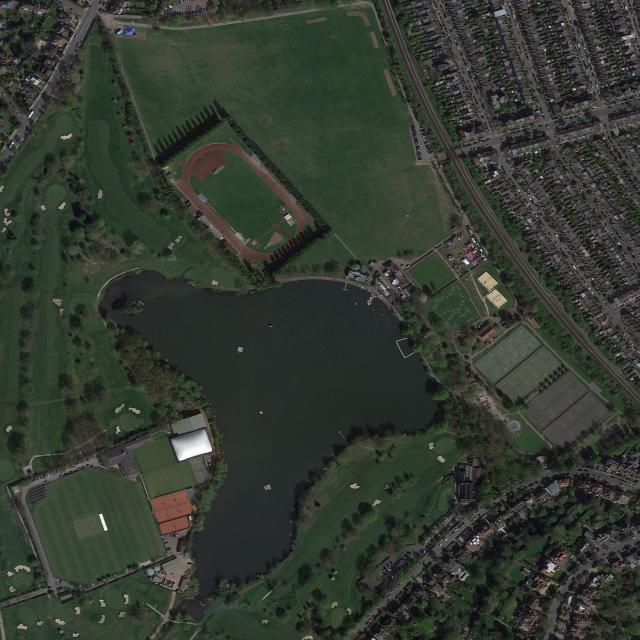large-vehicle: (28, 110, 35, 119), (8, 141, 15, 149), (470, 237, 476, 244), (468, 229, 474, 235), (546, 125, 550, 129)
ship: (137, 300, 145, 306), (269, 325, 273, 328), (386, 286, 390, 289), (380, 294, 384, 297), (369, 302, 372, 305), (361, 285, 363, 289), (355, 302, 357, 305), (383, 293, 386, 295), (383, 290, 385, 293), (369, 297, 372, 299), (367, 303, 370, 305), (367, 289, 369, 292), (362, 286, 364, 289), (374, 323, 377, 325), (367, 300, 369, 302)
small-vehicle: (571, 265, 577, 271), (167, 4, 173, 9), (618, 235, 623, 240), (451, 227, 457, 231), (390, 565, 396, 569), (450, 521, 455, 525), (447, 524, 452, 528), (443, 527, 448, 531), (438, 531, 443, 535), (454, 528, 459, 532), (428, 543, 433, 547), (398, 558, 403, 562), (457, 524, 462, 528), (435, 523, 440, 527), (444, 27, 448, 32), (511, 13, 515, 18), (474, 86, 478, 91), (591, 284, 595, 289), (39, 82, 44, 86), (70, 8, 75, 12), (417, 553, 421, 558), (172, 533, 176, 538), (627, 166, 631, 171), (495, 495, 500, 499), (388, 576, 392, 581), (399, 290, 404, 294), (518, 182, 522, 187), (514, 177, 518, 182), (578, 267, 583, 271), (621, 239, 625, 244), (617, 241, 621, 246), (594, 288, 599, 292), (632, 262, 636, 267), (631, 255, 636, 259), (524, 198, 528, 203), (478, 322, 483, 326), (487, 507, 492, 511), (517, 482, 522, 486), (556, 565, 561, 569), (589, 557, 594, 561), (575, 568, 580, 572), (569, 574, 573, 579), (563, 613, 567, 618), (396, 560, 402, 563), (531, 127, 537, 130), (472, 235, 476, 239), (401, 264, 405, 268), (451, 519, 455, 523), (446, 526, 450, 530), (423, 534, 427, 538), (425, 533, 429, 537), (431, 526, 435, 530), (444, 537, 448, 541), (389, 561, 393, 565), (451, 531, 455, 535), (433, 525, 437, 529), (461, 522, 465, 526), (437, 521, 441, 525), (439, 520, 443, 524), (440, 518, 444, 522), (443, 518, 447, 522), (503, 2, 507, 6), (441, 9, 445, 13), (467, 71, 471, 75), (466, 80, 470, 84), (35, 89, 39, 93), (36, 84, 40, 88), (76, 43, 80, 47), (59, 1, 63, 5), (2, 92, 6, 96), (400, 580, 404, 584), (396, 583, 400, 587), (393, 587, 397, 591), (390, 590, 394, 594), (378, 602, 382, 606), (409, 571, 413, 575), (402, 565, 406, 569), (383, 582, 387, 586), (59, 580, 63, 584), (577, 178, 581, 182), (607, 136, 611, 140), (565, 161, 569, 165), (620, 156, 624, 160), (618, 153, 622, 157), (618, 144, 622, 148), (613, 146, 617, 150), (609, 140, 613, 144), (589, 81, 593, 85), (585, 68, 589, 72), (624, 6, 628, 10), (572, 171, 576, 175), (580, 182, 584, 186), (492, 497, 496, 501), (579, 188, 583, 192), (512, 174, 516, 178), (629, 252, 633, 256), (99, 1, 103, 5), (602, 299, 606, 303), (614, 237, 618, 241), (567, 251, 571, 255), (609, 230, 613, 234), (604, 223, 608, 227), (594, 208, 598, 212), (624, 251, 628, 255), (590, 290, 594, 294), (587, 287, 591, 291), (587, 278, 591, 282), (576, 271, 580, 275), (629, 258, 633, 262), (577, 44, 581, 48), (501, 167, 505, 171), (548, 224, 552, 228), (537, 217, 541, 221), (534, 205, 538, 209), (517, 189, 521, 193), (542, 115, 546, 119), (479, 99, 483, 103), (487, 130, 491, 134), (485, 125, 489, 129), (555, 234, 559, 238), (560, 241, 564, 245), (633, 346, 637, 350), (631, 343, 635, 347), (628, 340, 632, 344), (632, 306, 636, 310), (617, 325, 621, 329), (480, 507, 484, 511), (514, 484, 518, 488), (561, 628, 565, 632), (570, 555, 574, 559), (566, 578, 570, 582), (448, 523, 453, 526), (406, 265, 411, 268), (414, 142, 419, 145), (405, 553, 410, 556), (400, 557, 405, 560), (395, 561, 400, 564), (387, 568, 392, 571), (386, 563, 389, 568), (474, 511, 479, 514), (411, 125, 416, 128), (520, 51, 523, 56), (473, 142, 478, 145), (428, 151, 433, 154), (421, 133, 426, 136), (383, 566, 386, 571), (385, 570, 390, 573), (75, 34, 78, 39), (77, 468, 82, 471), (376, 578, 381, 581), (375, 588, 378, 593), (166, 548, 171, 551), (164, 542, 169, 545), (44, 572, 49, 575), (178, 0, 181, 5), (623, 108, 628, 111), (595, 83, 598, 88), (519, 136, 524, 139), (572, 121, 577, 124), (558, 125, 563, 128), (540, 95, 543, 100), (503, 134, 508, 137), (522, 129, 527, 132), (538, 131, 543, 134), (597, 476, 602, 479), (619, 483, 624, 486), (626, 305, 631, 308), (540, 482, 545, 485), (545, 583, 548, 588), (586, 577, 591, 580), (635, 300, 639, 303), (455, 517, 459, 520), (442, 529, 446, 532), (437, 533, 441, 536), (411, 127, 415, 130), (413, 136, 417, 139), (414, 138, 418, 141), (416, 145, 420, 148), (431, 528, 434, 532), (448, 534, 451, 538), (439, 543, 443, 546), (402, 556, 406, 559), (394, 563, 398, 566), (445, 517, 449, 520), (446, 515, 450, 518), (448, 513, 452, 516), (449, 511, 453, 514), (456, 514, 460, 517), (471, 514, 475, 517), (478, 514, 482, 517), (474, 517, 478, 520), (470, 520, 474, 523), (420, 127, 424, 130), (382, 568, 385, 572), (433, 1, 436, 5), (435, 5, 438, 9), (436, 9, 439, 13), (440, 5, 443, 9), (444, 14, 447, 18), (420, 129, 424, 132), (450, 29, 453, 33), (448, 36, 451, 40), (508, 2, 511, 6), (509, 6, 512, 10), (526, 56, 529, 60), (518, 46, 521, 50), (516, 40, 519, 44), (512, 29, 515, 33), (511, 25, 514, 29), (515, 24, 518, 28), (507, 13, 510, 17), (451, 43, 454, 47), (454, 38, 457, 42), (455, 42, 458, 46), (478, 107, 481, 111), (428, 149, 432, 152), (427, 148, 431, 151), (426, 146, 430, 149), (425, 144, 429, 147), (424, 140, 428, 143), (423, 139, 427, 142), (422, 137, 426, 140), (422, 135, 426, 138), (473, 148, 477, 151), (475, 101, 478, 105), (457, 45, 460, 49), (432, 64, 435, 68), (460, 53, 463, 57), (458, 60, 461, 64), (466, 67, 469, 71), (463, 72, 466, 76), (468, 85, 471, 89), (470, 88, 473, 92), (57, 50, 60, 54), (47, 473, 50, 477), (166, 6, 170, 9), (9, 102, 13, 105), (43, 481, 47, 484), (64, 473, 68, 476), (69, 471, 73, 474), (6, 144, 9, 148), (18, 112, 21, 116), (15, 109, 18, 113), (45, 474, 48, 478), (399, 568, 402, 572), (376, 605, 379, 609), (373, 608, 376, 612), (419, 562, 422, 566), (361, 582, 364, 586), (404, 564, 407, 568), (408, 562, 411, 566), (421, 550, 424, 554), (391, 575, 394, 579), (385, 580, 388, 584), (382, 583, 385, 587), (380, 584, 383, 588), (383, 573, 387, 576), (379, 572, 382, 576), (170, 534, 173, 538), (175, 532, 178, 536), (82, 458, 85, 462), (80, 459, 83, 463), (73, 463, 76, 467), (65, 465, 68, 469), (47, 586, 51, 589), (184, 12, 187, 16), (206, 7, 209, 11), (201, 9, 204, 13), (199, 10, 202, 14), (192, 11, 195, 15), (186, 12, 189, 16), (523, 61, 526, 65), (530, 68, 533, 72), (604, 124, 607, 128), (565, 118, 569, 121), (592, 116, 596, 119), (618, 109, 622, 112), (620, 103, 624, 106), (609, 126, 612, 130), (606, 132, 609, 136), (575, 175, 578, 179), (570, 168, 573, 172), (568, 171, 571, 175), (630, 170, 633, 174), (625, 155, 628, 159), (550, 142, 553, 146), (601, 85, 604, 89), (588, 76, 591, 80), (587, 66, 590, 70), (585, 55, 589, 58), (579, 49, 582, 53), (635, 38, 638, 42), (636, 27, 639, 31), (633, 18, 636, 22), (628, 19, 631, 23), (626, 10, 629, 14), (631, 13, 634, 17), (623, 2, 626, 6), (510, 486, 514, 489), (539, 564, 542, 568), (369, 268, 373, 271), (171, 2, 174, 6), (59, 43, 62, 47), (563, 157, 566, 161), (626, 247, 630, 250), (586, 191, 590, 194), (540, 220, 543, 224), (623, 160, 626, 164), (621, 149, 624, 153), (592, 73, 595, 77), (538, 90, 541, 94), (611, 234, 615, 237), (604, 214, 607, 218), (582, 191, 585, 195), (582, 278, 585, 282), (584, 275, 588, 278), (510, 171, 513, 175), (498, 156, 501, 160), (579, 35, 582, 39), (482, 146, 486, 149), (477, 147, 481, 150), (556, 144, 559, 148), (522, 187, 525, 191), (527, 194, 530, 198), (531, 201, 535, 204), (549, 233, 552, 237), (542, 224, 546, 227), (543, 218, 547, 221), (537, 213, 541, 216), (540, 212, 543, 216), (537, 209, 541, 212), (519, 192, 523, 195), (487, 139, 491, 142), (482, 105, 485, 109), (537, 99, 540, 103), (537, 86, 540, 90), (469, 75, 472, 79), (495, 83, 498, 87), (530, 81, 533, 85), (485, 113, 488, 117), (487, 117, 490, 121), (527, 128, 531, 131), (560, 248, 563, 252), (562, 473, 566, 476), (584, 469, 588, 472), (593, 475, 597, 478), (614, 477, 618, 480), (618, 478, 622, 481), (621, 479, 625, 482), (625, 481, 629, 484), (629, 483, 633, 486), (633, 484, 637, 487), (636, 350, 640, 353), (573, 33, 576, 37), (577, 30, 580, 34), (569, 21, 572, 25), (628, 309, 632, 312), (624, 311, 628, 314), (607, 314, 611, 317), (623, 332, 626, 336), (557, 591, 561, 594), (493, 503, 496, 507), (505, 494, 509, 497), (502, 492, 506, 495), (506, 489, 510, 492), (517, 488, 521, 491), (521, 480, 525, 483), (564, 629, 567, 633), (602, 545, 606, 548), (602, 553, 606, 556), (573, 571, 576, 575), (563, 582, 566, 586), (417, 155, 422, 157), (411, 129, 416, 131), (412, 133, 417, 135), (467, 144, 472, 146), (168, 14, 170, 19), (195, 11, 197, 16), (612, 111, 617, 113), (569, 117, 574, 119), (407, 552, 412, 554), (175, 12, 177, 17), (504, 140, 509, 142), (538, 125, 543, 127), (517, 131, 522, 133), (578, 469, 583, 471), (552, 478, 557, 480), (477, 243, 480, 246), (438, 13, 441, 16), (440, 17, 443, 20), (441, 21, 444, 24), (443, 24, 446, 27), (447, 33, 450, 36), (449, 40, 452, 43), (525, 53, 528, 56), (524, 50, 527, 53), (523, 46, 526, 49), (518, 32, 521, 35), (508, 18, 511, 21), (474, 98, 477, 101), (462, 58, 465, 61), (464, 63, 467, 66), (461, 68, 464, 71), (471, 80, 474, 83), (476, 91, 479, 94), (165, 7, 168, 10), (108, 1, 111, 4), (89, 5, 92, 8), (28, 98, 31, 101), (13, 106, 16, 109), (372, 615, 375, 618), (367, 615, 370, 618), (369, 619, 372, 622), (366, 622, 369, 625), (423, 550, 426, 553), (70, 464, 73, 467), (197, 11, 200, 14), (527, 72, 530, 75), (605, 128, 608, 131), (633, 167, 636, 170), (615, 140, 618, 143), (600, 98, 603, 101), (599, 95, 602, 98), (591, 85, 594, 88), (590, 67, 593, 70), (584, 64, 587, 67), (580, 53, 583, 56), (568, 18, 571, 21), (598, 91, 601, 94), (637, 45, 640, 48), (633, 32, 636, 35), (631, 27, 634, 30), (630, 9, 633, 12), (554, 241, 557, 244), (454, 544, 457, 547), (597, 205, 600, 208), (625, 163, 628, 166), (563, 124, 566, 127), (616, 233, 619, 236), (565, 248, 568, 251), (614, 229, 617, 232), (609, 222, 612, 225), (601, 212, 604, 215), (589, 202, 592, 205), (584, 195, 587, 198), (584, 282, 587, 285), (576, 263, 579, 266), (573, 259, 576, 262), (635, 267, 638, 270), (575, 38, 578, 41), (512, 182, 515, 185), (509, 178, 512, 181), (504, 171, 507, 174), (529, 197, 532, 200), (529, 205, 532, 208), (527, 203, 530, 206), (522, 195, 525, 198), (541, 112, 544, 115), (533, 90, 536, 93), (534, 79, 537, 82), (492, 85, 495, 88), (484, 122, 487, 125), (480, 112, 483, 115), (488, 121, 491, 124), (490, 125, 493, 128), (492, 129, 495, 132), (632, 528, 635, 531), (625, 328, 628, 331), (627, 331, 630, 334), (633, 338, 636, 341), (591, 547, 594, 550), (510, 492, 513, 495), (521, 486, 524, 489), (611, 538, 614, 541), (411, 124, 415, 126), (412, 131, 416, 133), (413, 135, 417, 137), (414, 140, 418, 142), (415, 144, 419, 146), (416, 148, 420, 150), (416, 151, 420, 153), (417, 153, 421, 155), (511, 9, 513, 13), (522, 42, 524, 46), (515, 36, 517, 40), (478, 141, 482, 143), (463, 145, 467, 147), (424, 143, 428, 145), (174, 2, 176, 6), (6, 72, 10, 74), (179, 13, 181, 17), (43, 475, 45, 479), (40, 476, 42, 480), (37, 477, 39, 481), (34, 478, 36, 482), (59, 475, 63, 477), (86, 465, 90, 467), (401, 567, 403, 571), (44, 570, 48, 572), (78, 461, 80, 465), (76, 461, 78, 465), (59, 468, 61, 472), (204, 8, 206, 12), (189, 12, 191, 16), (182, 12, 184, 16), (574, 116, 578, 118), (577, 121, 581, 123), (578, 115, 582, 117), (636, 105, 640, 107), (629, 101, 633, 103), (625, 102, 629, 104), (608, 107, 612, 109), (592, 106, 596, 108), (588, 59, 590, 63), (583, 60, 585, 64), (582, 56, 584, 60), (565, 7, 567, 11), (635, 23, 637, 27), (629, 4, 631, 8), (533, 73, 535, 77), (177, 13, 179, 17), (605, 304, 609, 306), (501, 150, 503, 154), (497, 152, 499, 156), (524, 135, 528, 137), (515, 138, 519, 140), (500, 139, 504, 141), (481, 140, 485, 142), (555, 121, 559, 123), (482, 115, 484, 119), (513, 132, 517, 134), (566, 473, 570, 475), (586, 474, 590, 476), (610, 476, 614, 478), (610, 318, 614, 320), (628, 538, 632, 540), (531, 489, 535, 491), (632, 537, 636, 539), (606, 549, 610, 551), (429, 530, 432, 532), (82, 467, 85, 469), (50, 472, 52, 475), (389, 595, 391, 598), (56, 469, 58, 472), (633, 106, 636, 108), (589, 63, 591, 66), (583, 46, 585, 49), (594, 93, 596, 96), (32, 479, 34, 482), (599, 294, 601, 297), (582, 43, 584, 46), (486, 145, 489, 147), (554, 137, 556, 140), (530, 134, 533, 136), (540, 108, 542, 111), (535, 95, 537, 98), (572, 29, 574, 32), (583, 554, 585, 557), (418, 159, 422, 160), (416, 150, 420, 151), (64, 467, 66, 469), (418, 157, 421, 158)
